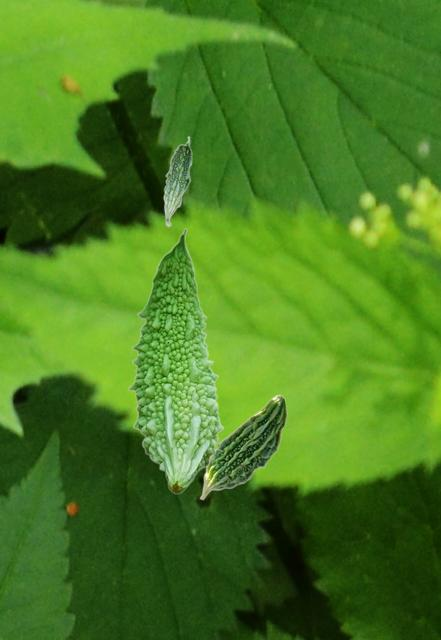ampalaya: (127, 227, 224, 494), (199, 394, 289, 500), (161, 136, 192, 227)
